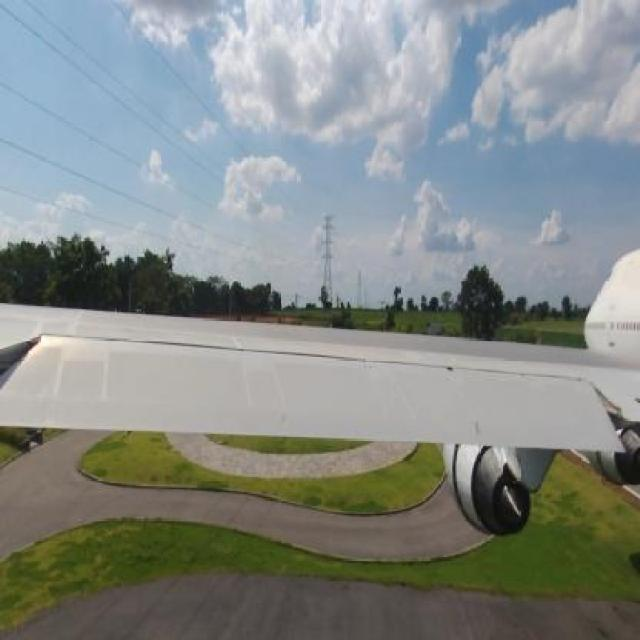Rust: (594, 386, 620, 414)
Scartch: (472, 406, 494, 448)
